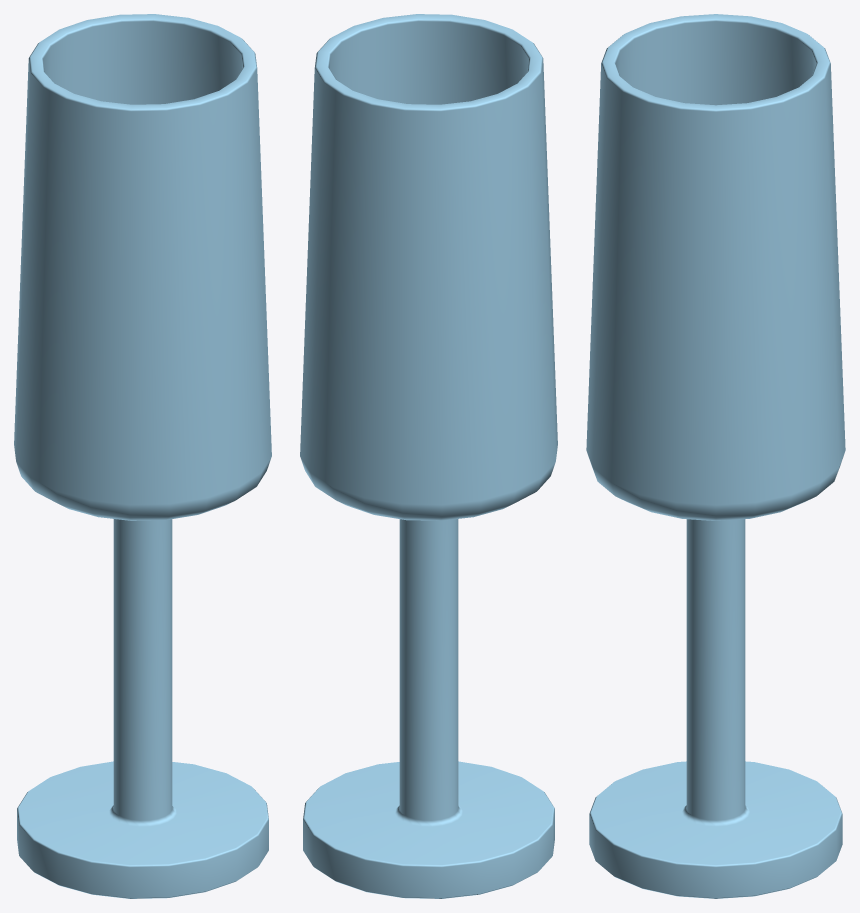
The model's file is Store_20_Glass_1.glb.
3 renders of one model, left to right at view 1: azimuth 30°, elevation 25°; view 2: azimuth 150°, elevation 25°; view 3: azimuth 270°, elevation 25°, orthographic.
Parts seen in each view (by area): view 1: Store_20_Glass_1; view 2: Store_20_Glass_1; view 3: Store_20_Glass_1.
Boxes of the visible parts, box(x1,y1,x2,y2) form: Store_20_Glass_1: box(14, 14, 271, 898); Store_20_Glass_1: box(300, 14, 557, 898); Store_20_Glass_1: box(586, 14, 845, 898).
Size of the model in its own units: 0.0951 by 0.3177 by 0.0951.
Materials: 1 (1 with a texture image).
